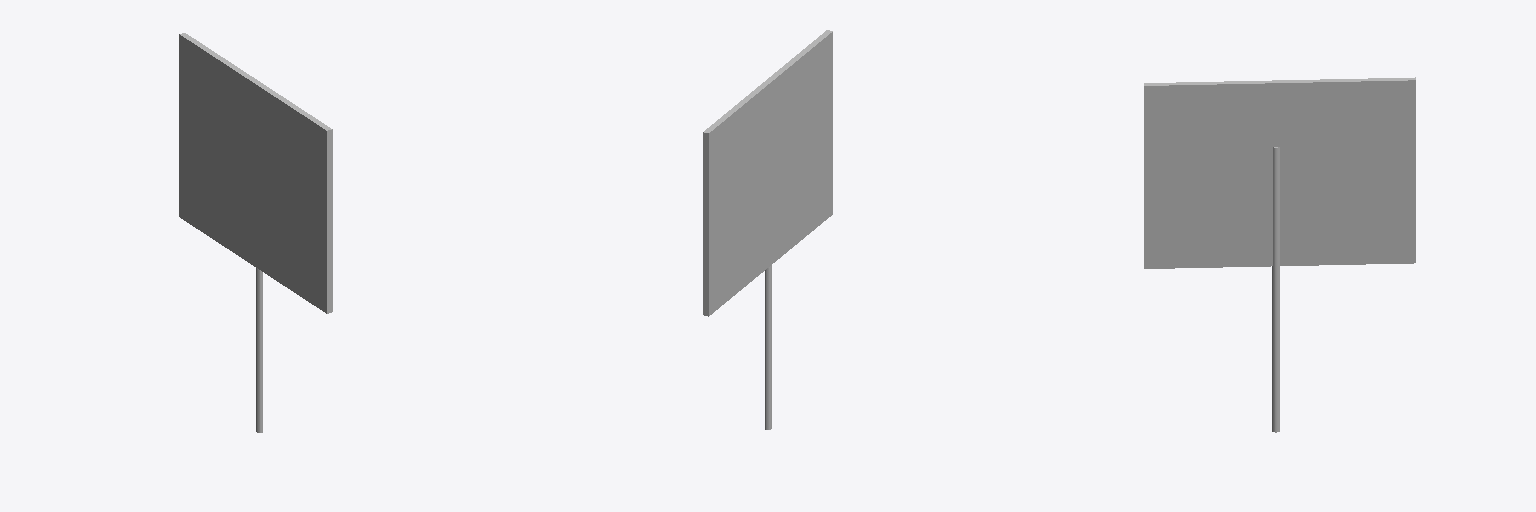
The model's file is board_23.obj.
The picture shows the model from 3 angles: view 1: azimuth 30°, elevation 25°; view 2: azimuth 150°, elevation 25°; view 3: azimuth 270°, elevation 25°; orthographic projection.
Parts seen in each view (by area): view 1: Cube.004_Cube.005, Cylinder.004; view 2: Cube.004_Cube.005, Cylinder.004; view 3: Cube.004_Cube.005, Cylinder.004.
Part boxes in pixels (bbox=[...]): Cube.004_Cube.005: bbox=[179, 33, 332, 313]; Cylinder.004: bbox=[256, 268, 262, 432]; Cube.004_Cube.005: bbox=[703, 30, 832, 316]; Cylinder.004: bbox=[765, 265, 771, 429]; Cube.004_Cube.005: bbox=[1144, 77, 1415, 268]; Cylinder.004: bbox=[1272, 147, 1279, 432].
Bounding box in the file's own units: 0.0335 × 0.6384 × 0.4516.